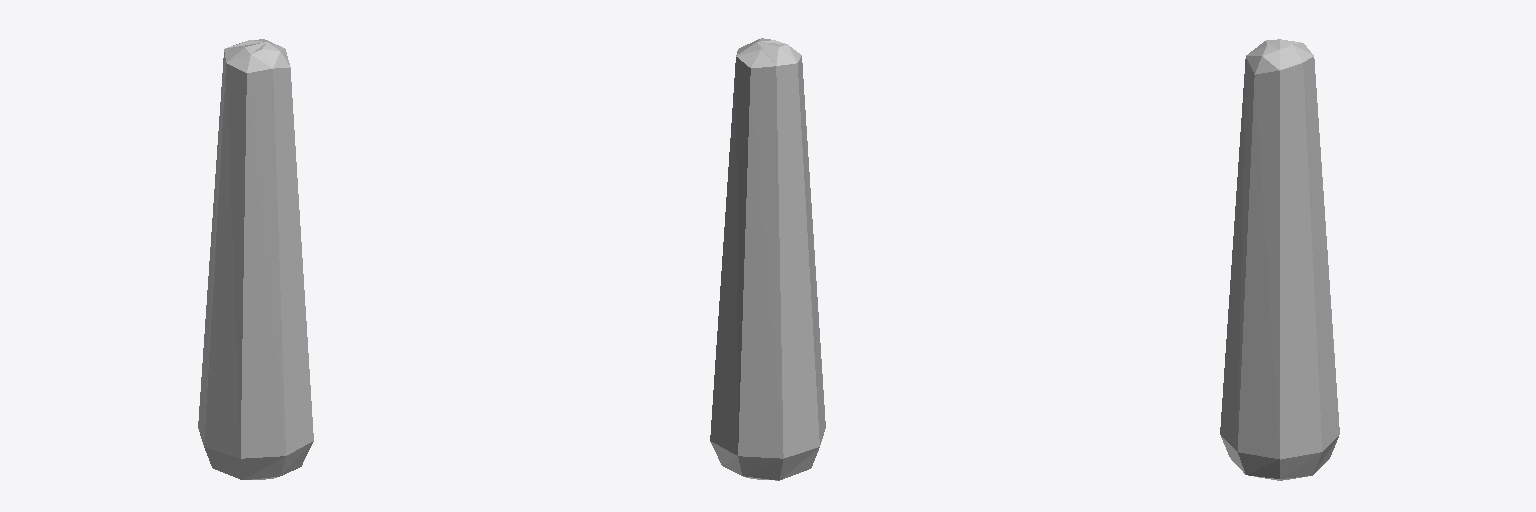
The model's file is branchLo.obj.
The picture shows the model from 3 angles: view 1: azimuth 30°, elevation 25°; view 2: azimuth 150°, elevation 25°; view 3: azimuth 270°, elevation 25°; orthographic projection.
Parts seen in each view (by area): view 1: Cylinder1_default; view 2: Cylinder1_default; view 3: Cylinder1_default.
Boxes of the visible parts, x1,y1,x2,y2 form: Cylinder1_default: [198, 39, 313, 479]; Cylinder1_default: [710, 38, 825, 480]; Cylinder1_default: [1220, 39, 1339, 480].
Size of the model in its own units: 0.6017 by 2.34 by 0.6017.